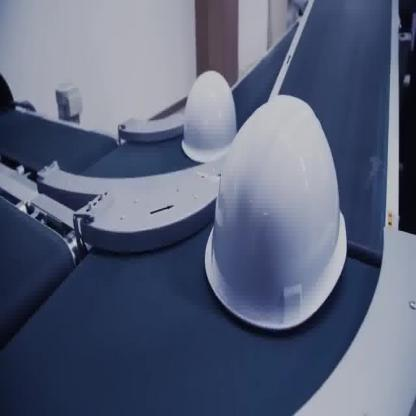helmet: (204, 93, 348, 335), (180, 68, 238, 166)
